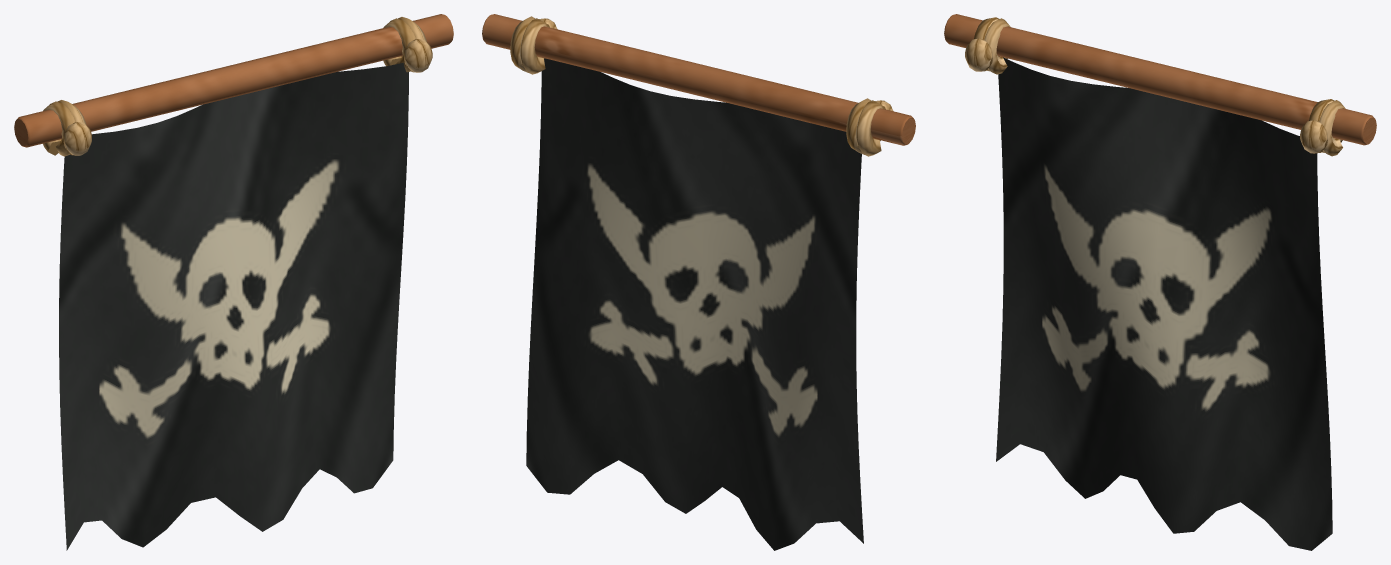
Rendered from SM_Banner_Pirate.glb.
3 renders of one model, left to right at view 1: azimuth 30°, elevation 25°; view 2: azimuth 150°, elevation 25°; view 3: azimuth 330°, elevation 25°, orthographic.
Visible parts, largest first — view 1: SM_Banner_Pirate; view 2: SM_Banner_Pirate; view 3: SM_Banner_Pirate.
Part boxes in pixels (x1=…): SM_Banner_Pirate: x1=14, y1=14, x2=453, y2=550; SM_Banner_Pirate: x1=482, y1=14, x2=915, y2=550; SM_Banner_Pirate: x1=944, y1=14, x2=1376, y2=550.
Bounding box in the file's own units: 1.4 × 1.48 × 0.1971.
Materials: 1 (1 with a texture image).
